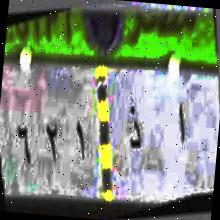1: (71, 112, 90, 166)
2: (38, 114, 63, 168)
6: (11, 117, 36, 173)
alif: (172, 96, 190, 151)
zaal: (120, 101, 148, 156)
